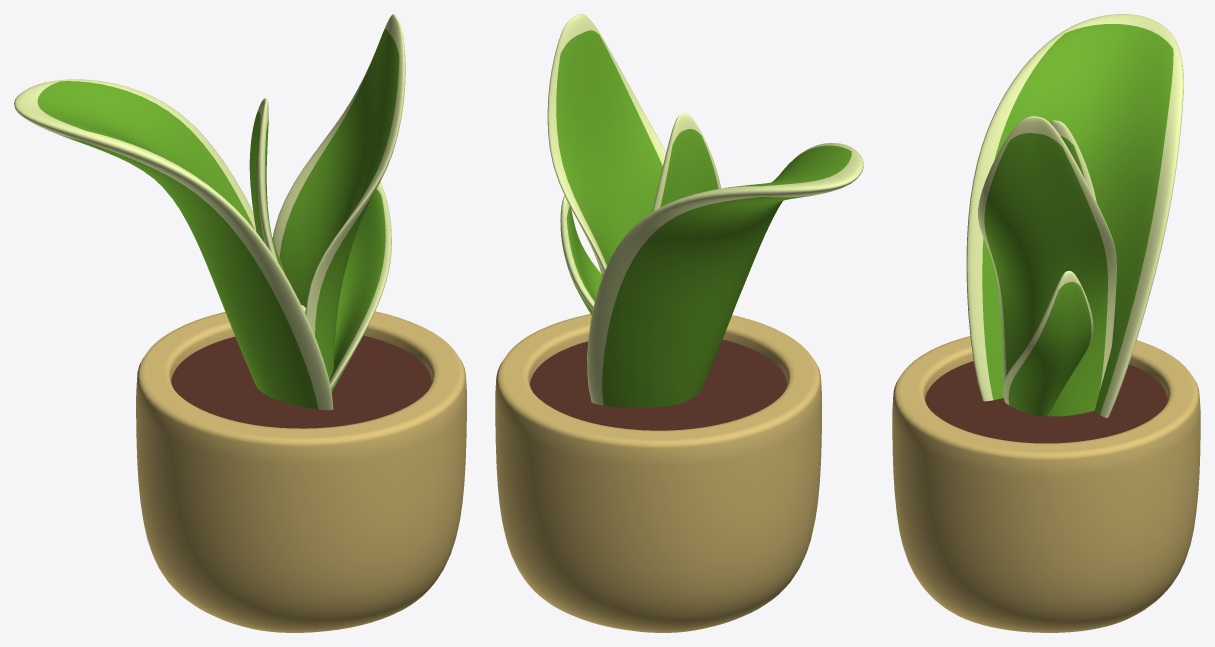
The picture shows the model from 3 angles, left to right: view 1: azimuth 30°, elevation 25°; view 2: azimuth 150°, elevation 25°; view 3: azimuth 270°, elevation 25°; orthographic projection. The views are drawn at different scales.
Parts seen in each view (by area): view 1: Cube_6, Plane.003_5, Plane.001_3, Cube.001_1, Plane.002_4, Plane_2; view 2: Cube_6, Plane.003_5, Plane.001_3, Cube.001_1, Plane_2, Plane.002_4; view 3: Cube_6, Plane.003_5, Plane.001_3, Cube.001_1, Plane.002_4, Plane_2.
Part boxes in pixels (x1=…): Cube_6: x1=136, y1=311, x2=466, y2=632; Plane.003_5: x1=14, y1=79, x2=333, y2=410; Plane.001_3: x1=272, y1=14, x2=405, y2=379; Cube.001_1: x1=171, y1=335, x2=431, y2=428; Plane.002_4: x1=301, y1=182, x2=391, y2=392; Plane_2: x1=249, y1=98, x2=284, y2=273; Cube_6: x1=495, y1=314, x2=821, y2=632; Plane.003_5: x1=587, y1=142, x2=863, y2=408; Plane.001_3: x1=547, y1=14, x2=666, y2=276; Cube.001_1: x1=530, y1=339, x2=787, y2=430; Plane_2: x1=652, y1=113, x2=721, y2=211; Plane.002_4: x1=560, y1=196, x2=602, y2=315; Cube_6: x1=892, y1=336, x2=1200, y2=632; Plane.003_5: x1=966, y1=14, x2=1183, y2=417; Plane.001_3: x1=978, y1=116, x2=1116, y2=416; Cube.001_1: x1=925, y1=361, x2=1167, y2=443; Plane.002_4: x1=1003, y1=271, x2=1093, y2=415; Plane_2: x1=1050, y1=120, x2=1096, y2=202.
Size of the model in its own units: 1.78 by 2.5 by 1.33.
